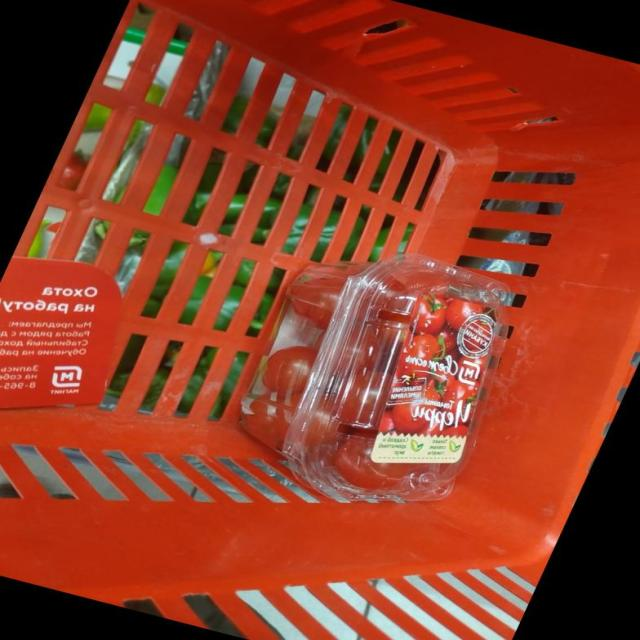Tomatoes: (332, 435, 408, 489), (239, 398, 296, 449), (261, 345, 317, 395), (337, 367, 384, 426), (291, 277, 344, 328)
